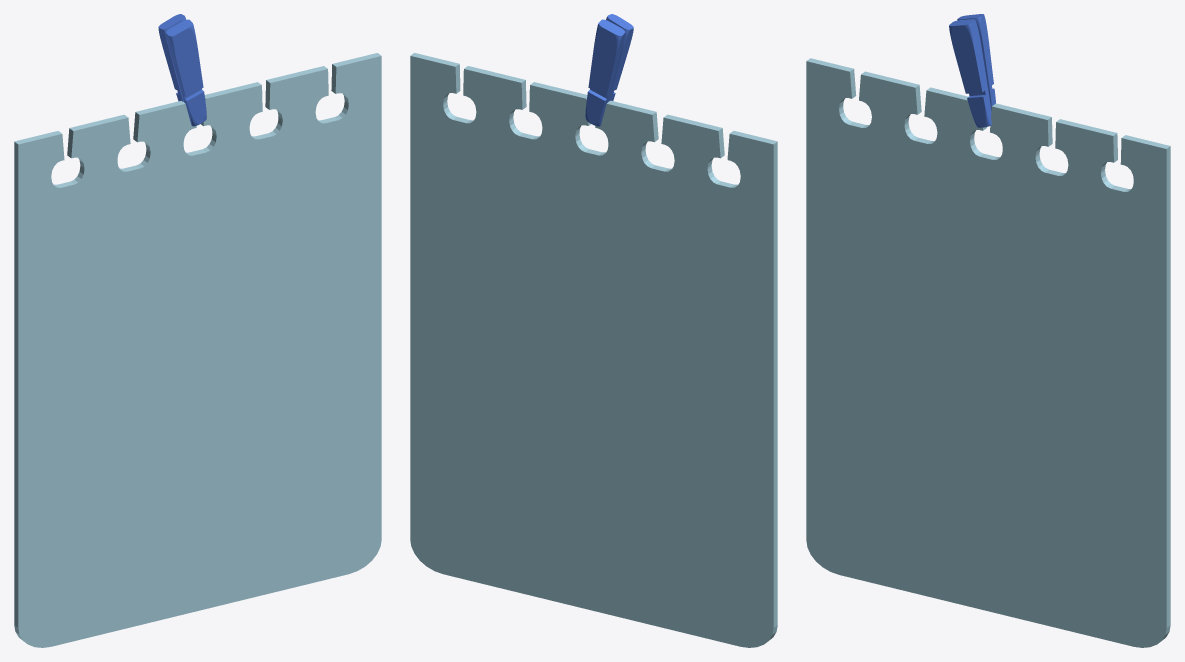
The model's file is paper_6.fbx.
3 views of the same model, side by side, from view 1: azimuth 30°, elevation 25°; view 2: azimuth 150°, elevation 25°; view 3: azimuth 330°, elevation 25° (orthographic).
Parts seen in each view (by area): view 1: Paper, Paper clips, Paper clips.001; view 2: Paper, Paper clips.001, Paper clips; view 3: Paper, Paper clips, Paper clips.001.
Boxes of the visible parts, left/top/right/bottom form: Paper: left=14, top=53, right=381, bottom=647; Paper clips: left=166, top=19, right=206, bottom=126; Paper clips.001: left=158, top=14, right=186, bottom=101; Paper: left=410, top=53, right=777, bottom=647; Paper clips.001: left=585, top=19, right=625, bottom=126; Paper clips: left=606, top=14, right=633, bottom=101; Paper: left=806, top=58, right=1170, bottom=647; Paper clips: left=949, top=19, right=991, bottom=127; Paper clips.001: left=957, top=14, right=995, bottom=110.
Bounding box in the file's own units: 251 × 392 × 18.35.
